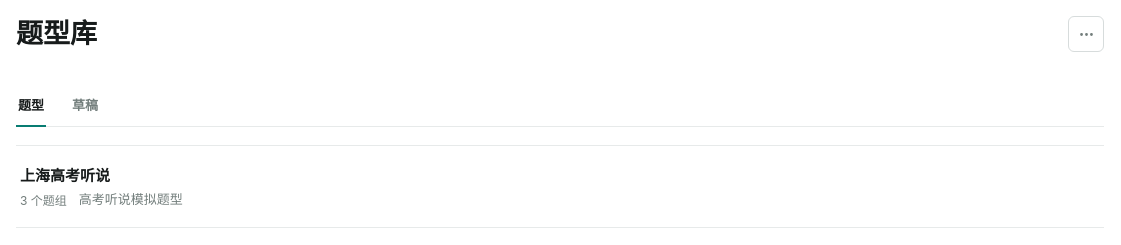
Scenario: Interface pages › switches between published interfaces and drafts without reloading the library
The width and height of the screenshot is (1121, 245).
Expected: the button "上海高考听说 3 个题组 高考听说模拟题型" is shown, [20, 164, 1080, 209]
Click the tab "草稿" at (85, 105), box [70, 84, 100, 126]
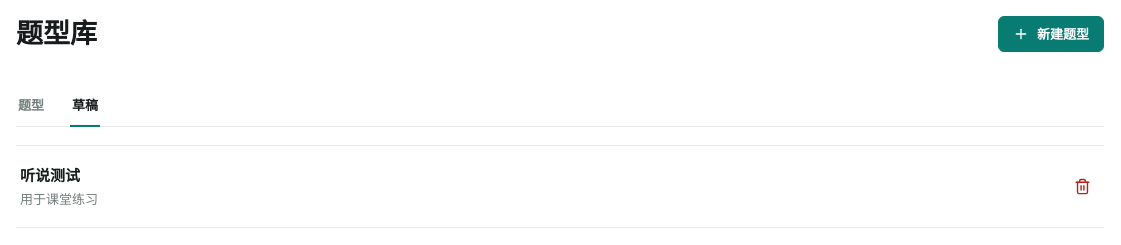
Expected: the button "听说测试 用于课堂练习" is shown, [20, 164, 1044, 209]
Click the tab "题型" at (31, 105), box [16, 84, 46, 126]
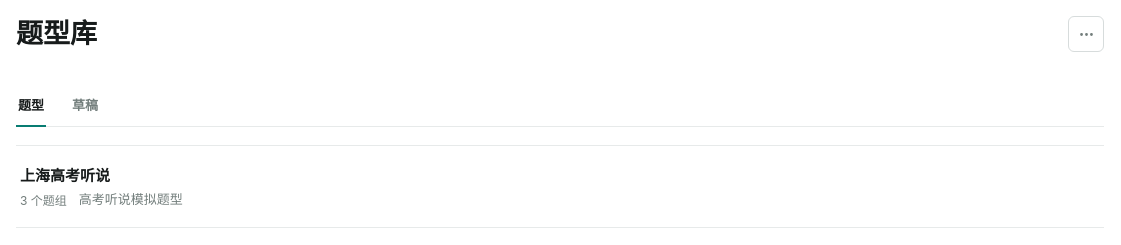
Expected: the button "上海高考听说 3 个题组 高考听说模拟题型" is shown, [20, 164, 1080, 209]
